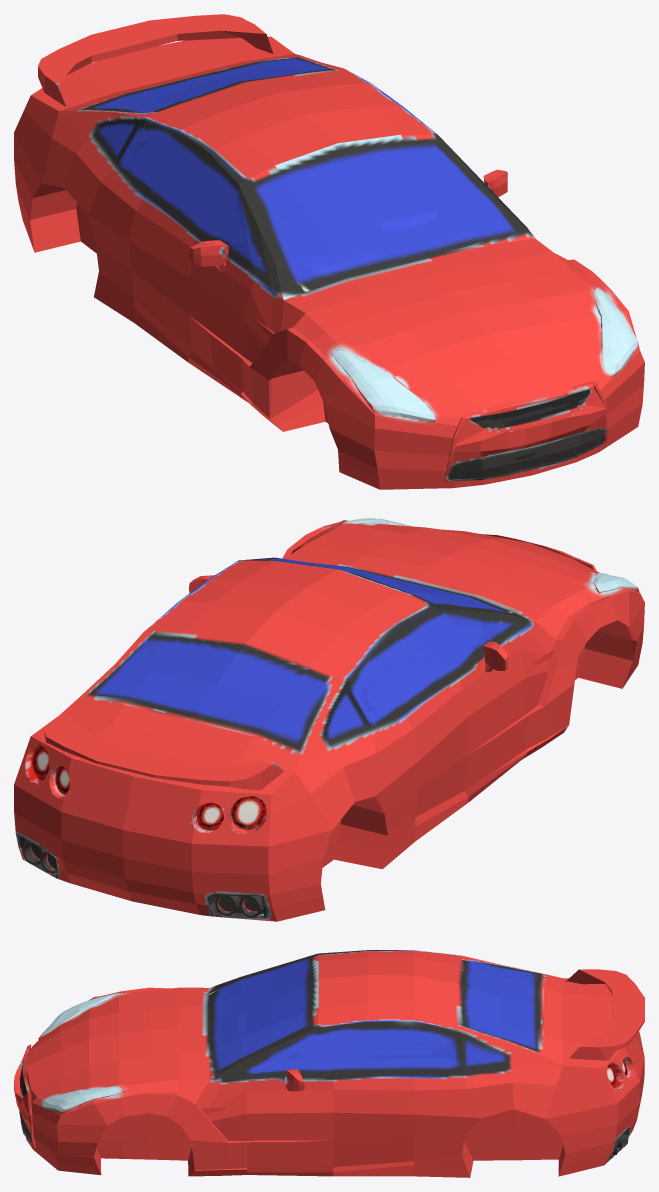
Rendered from gtr-demo.gltf.
3 renders of one model, top to bottom at view 1: azimuth 30°, elevation 25°; view 2: azimuth 150°, elevation 25°; view 3: azimuth 270°, elevation 25°, orthographic. The views are drawn at different scales.
Parts seen in each view (by area): view 1: Plane.028; view 2: Plane.028; view 3: Plane.028.
Part boxes in pixels (x1,y1,x2,y2): Plane.028: (14, 14, 644, 489); Plane.028: (14, 518, 644, 921); Plane.028: (14, 950, 644, 1177).
Bounding box in the file's own units: 1.49 × 0.8812 × 3.37.
Materials: 1 (1 with a texture image).
